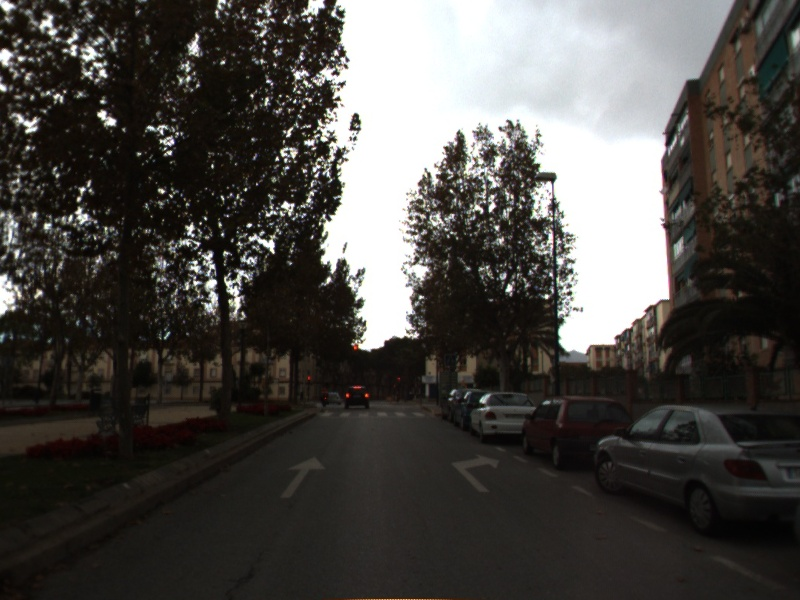RIGHT: (449, 451, 502, 495)
STRAIGHT: (278, 454, 329, 501)
